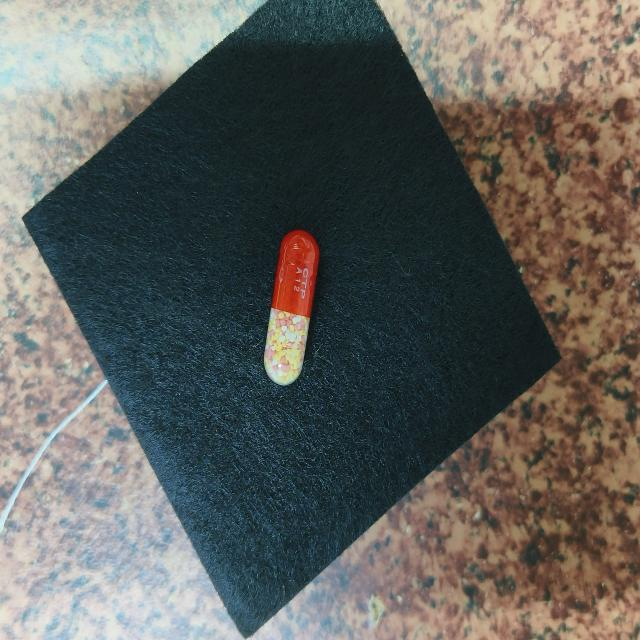Intact Capsule: (264, 229, 320, 385)
